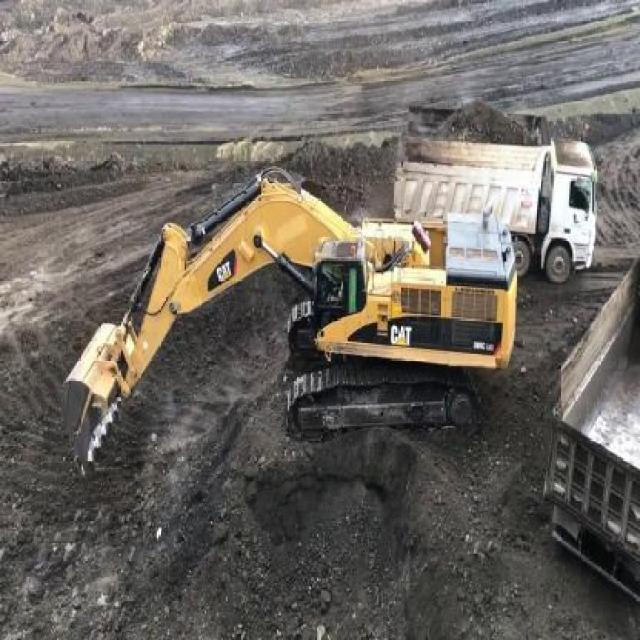Dump Truck: (389, 110, 600, 285), (544, 257, 638, 605)
Excavator: (55, 159, 519, 473)
